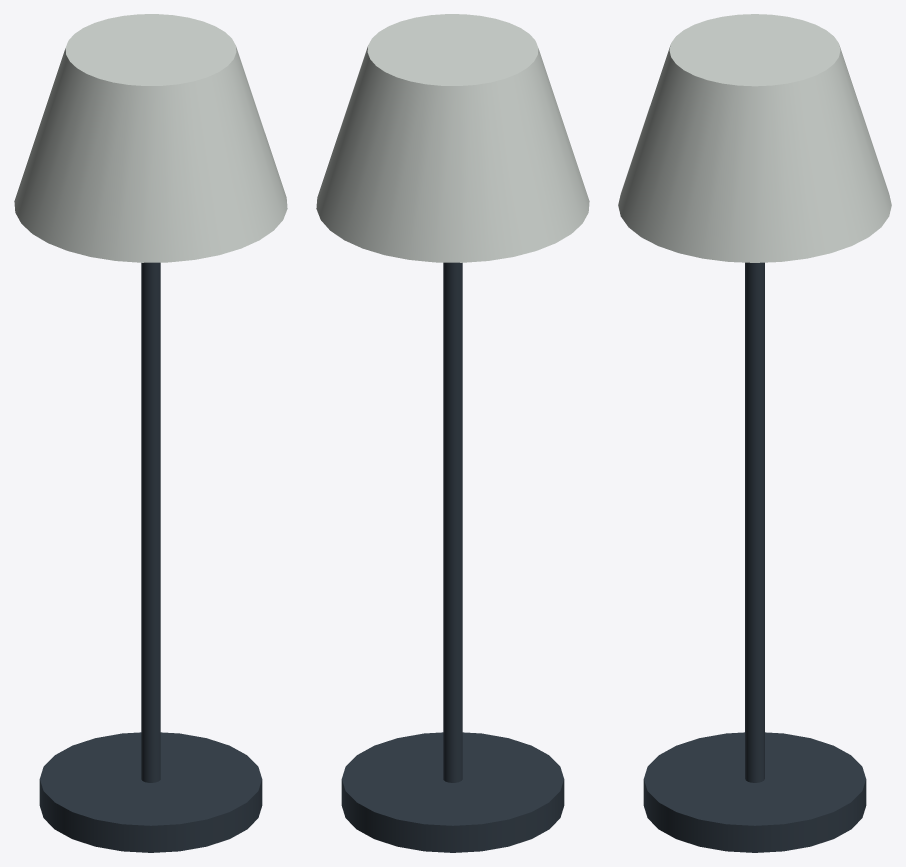
Rendered from floor-lamp.glb.
The picture shows the model from 3 angles, left to right: view 1: azimuth 30°, elevation 25°; view 2: azimuth 150°, elevation 25°; view 3: azimuth 270°, elevation 25°; orthographic projection.
Visible parts, largest first — view 1: floor-lamp; view 2: floor-lamp; view 3: floor-lamp.
Boxes of the visible parts, <box> form: floor-lamp: <box>14,14,287,852</box>; floor-lamp: <box>316,14,589,852</box>; floor-lamp: <box>618,14,891,852</box>.
Size of the model in its own units: 0.64 by 1.95 by 0.64.
